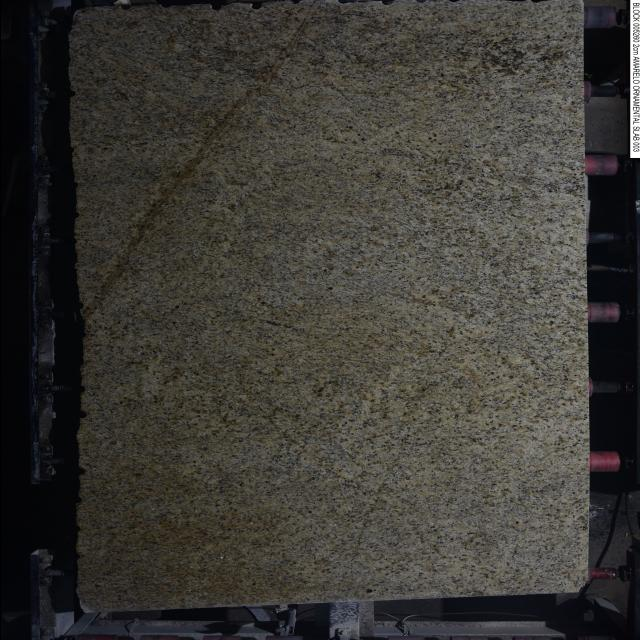chapa: (68, 0, 588, 611)
veio: (248, 0, 263, 12), (205, 1, 221, 12), (72, 464, 86, 476), (74, 408, 88, 418), (377, 0, 391, 7)
